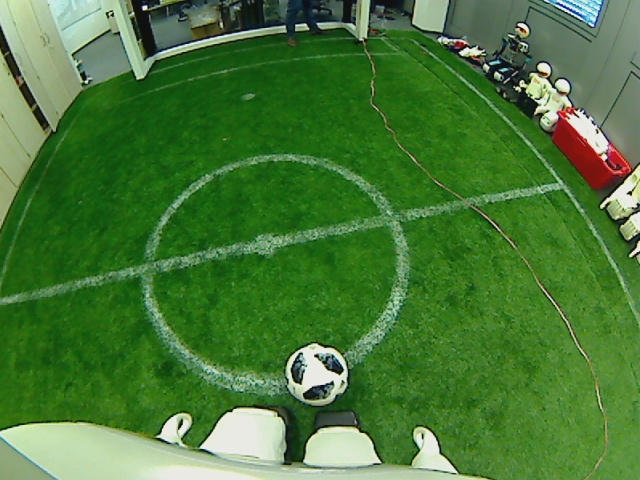ball: (283, 343, 349, 404)
